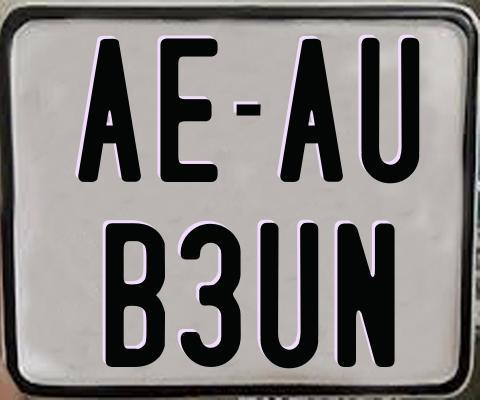3: (178, 221, 241, 368)
A: (278, 38, 346, 186), (76, 39, 139, 184)
B: (103, 222, 166, 366)
E: (160, 38, 224, 187)
N: (335, 222, 397, 367)
U: (361, 36, 421, 186), (257, 221, 316, 370)
